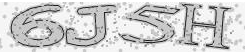5: (120, 2, 182, 47)
6: (10, 3, 65, 48)
H: (181, 3, 232, 51)
J: (64, 3, 118, 51)
